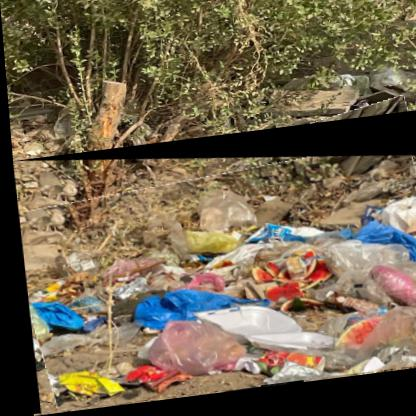Garbage: (11, 120, 416, 416)
